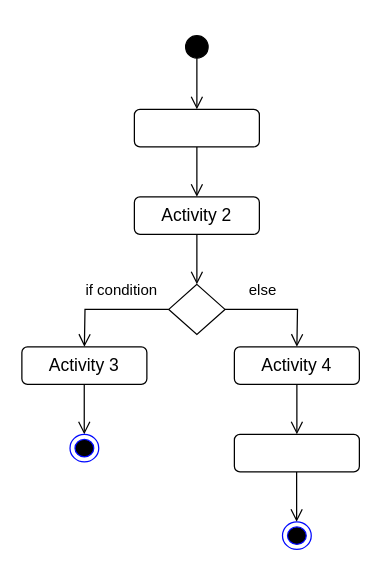
Image size: 381x571. Some labels were removed from this diagram. Here are the shapes that lost their labels. From the top down, the centre of each, then its label:
the point at 196,127: Activity 1
the point at 296,452: Activity 5
